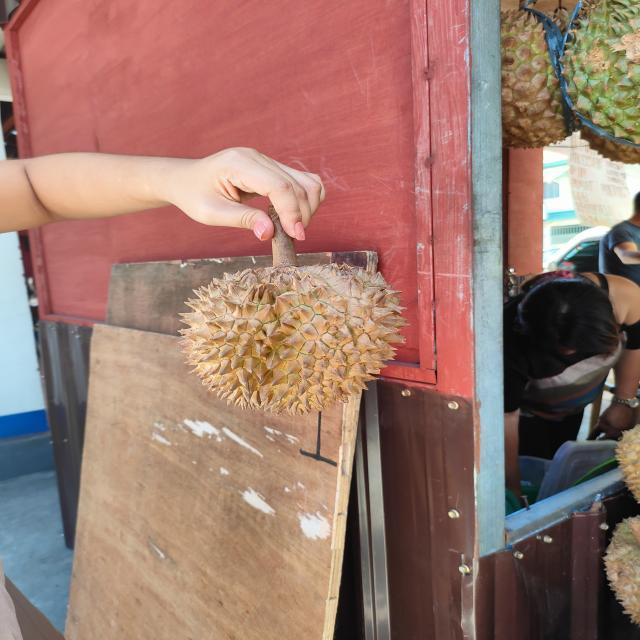mature: (174, 259, 410, 417)
